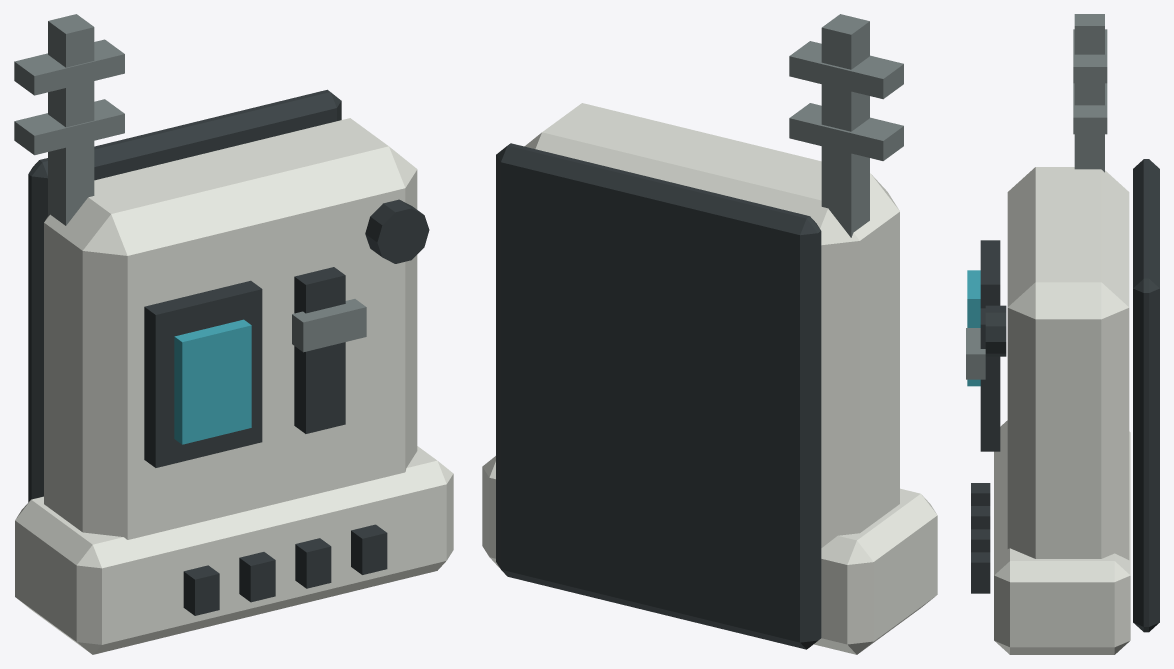
File: person_pack_control.obj
The picture shows the model from 3 angles, left to right: view 1: azimuth 30°, elevation 25°; view 2: azimuth 150°, elevation 25°; view 3: azimuth 270°, elevation 25°; orthographic projection. The views are drawn at different scales.
Parts seen in each view (by area): view 1: person_pack_control; view 2: person_pack_control; view 3: person_pack_control.
Boxes of the visible parts, bbox=[...] form: person_pack_control: bbox=[14, 14, 453, 654]; person_pack_control: bbox=[482, 14, 937, 654]; person_pack_control: bbox=[966, 14, 1159, 654].
Size of the model in its own units: 0.308 by 0.455 by 0.159.
